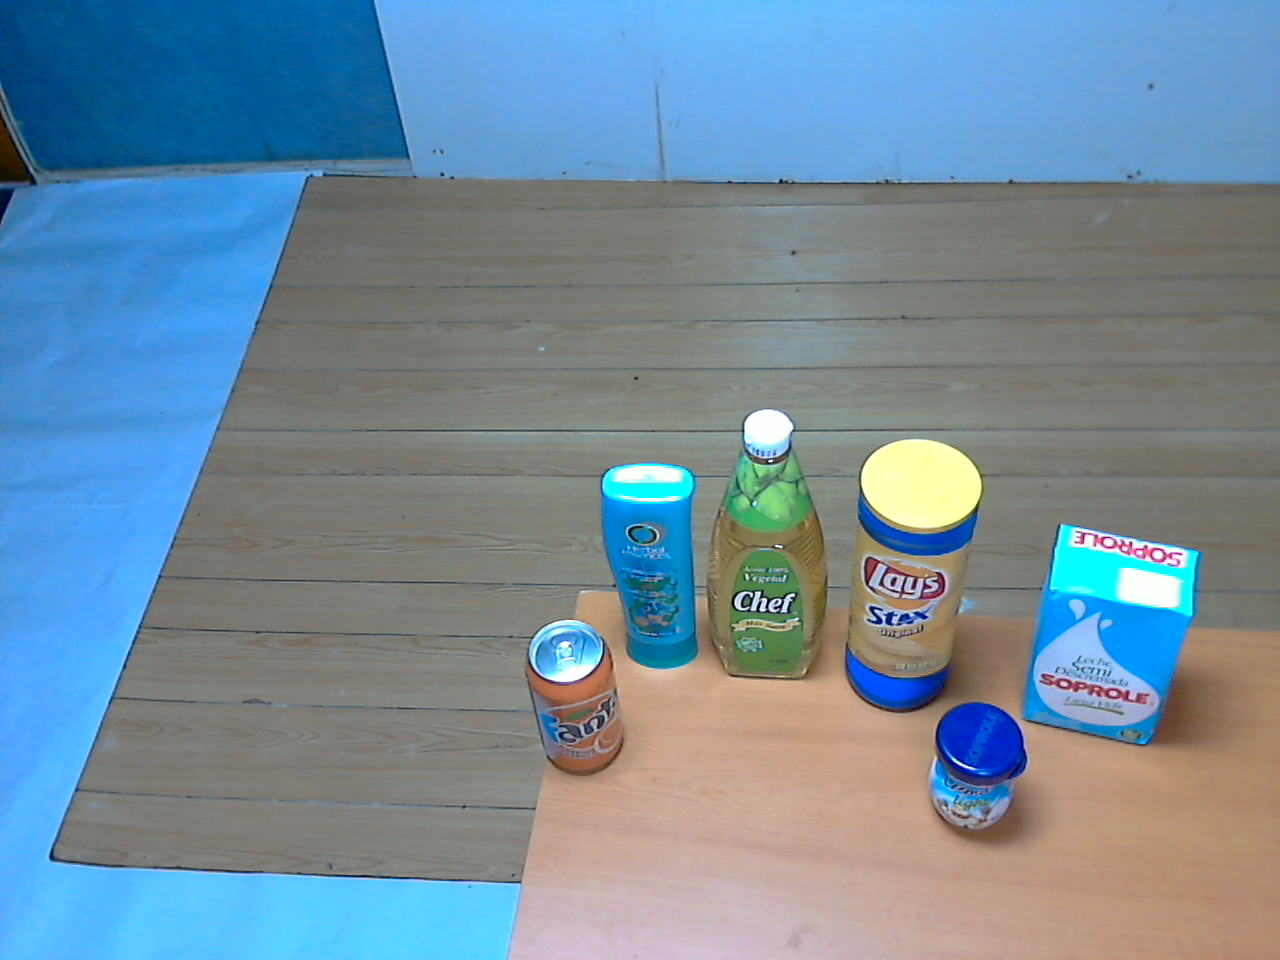aceite: (702, 406, 835, 691)
balsamo: (595, 450, 705, 675)
crema: (923, 694, 1038, 848)
lata: (519, 614, 629, 791)
leche: (1019, 510, 1204, 757)
papas: (838, 434, 992, 719)
